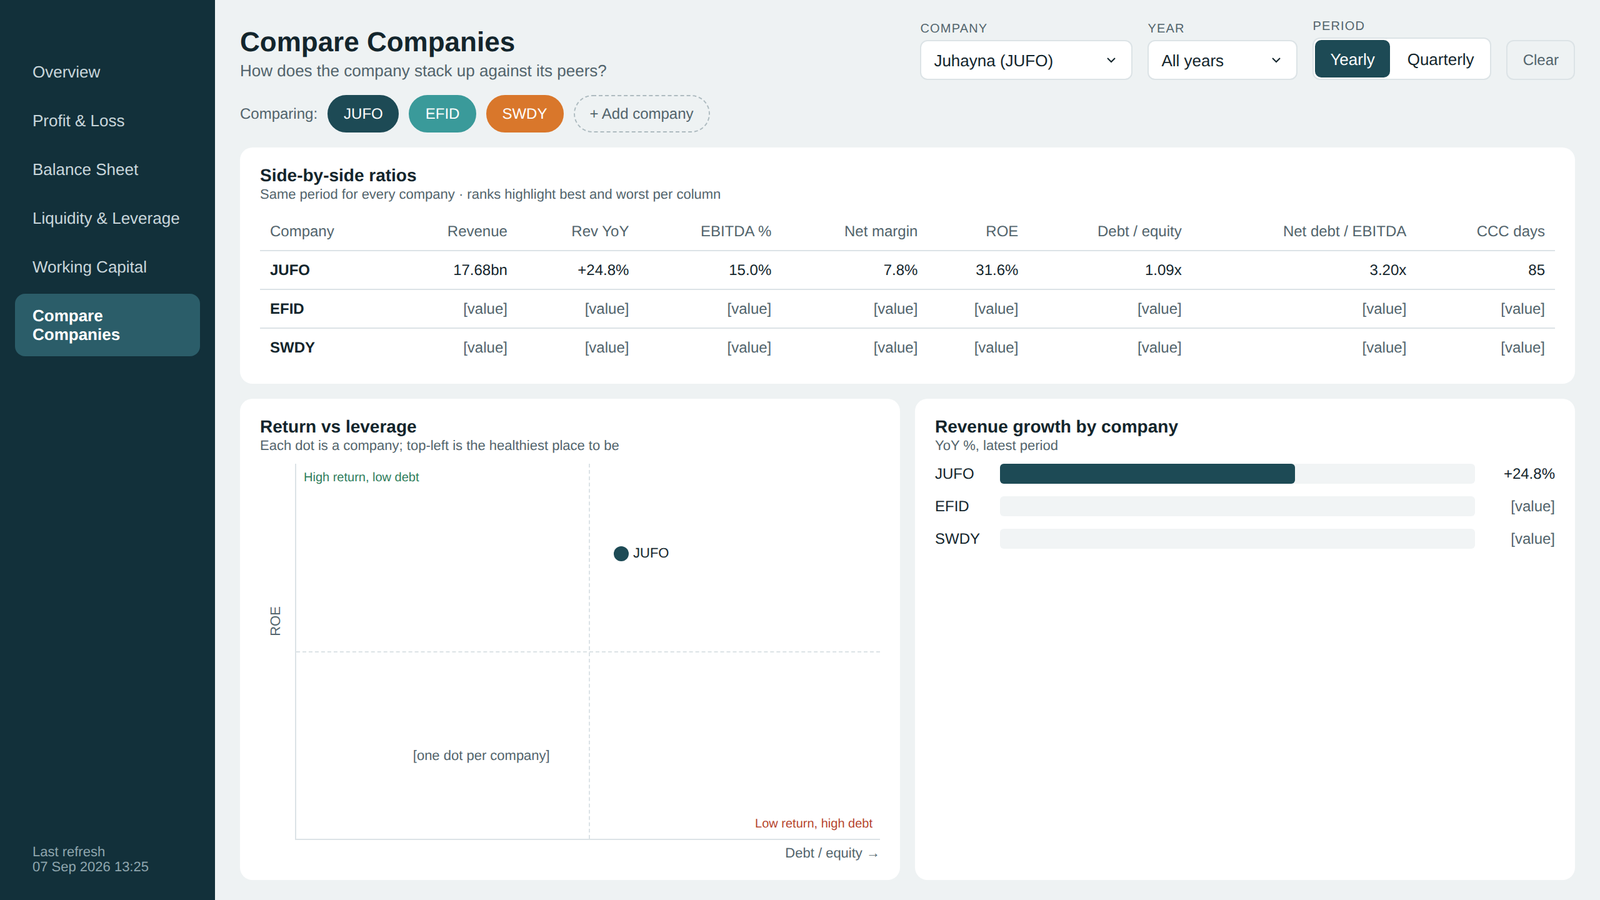

Layout of this report page (visuals, bound fields, positions):
{"tool":"powerbi","page":{"name":"Compare Companies","canvas":[1280,720],"ordinal":5},"visuals":[{"type":"pivotTable","title":"Side-by-side ratios","fields":{"Rows":["FactFinancials.Company"],"Values":["Measures List.Revenue (card)","Measures List.Revenue YOY% (card)","Measures List.EBITDA Margin % (card)","Measures List.Net Income Margin % (card)","Measures List.ROE (annualised) (card)","Measures List.Debt to Equity (card)","Measures List.Net Debt / EBITDA (card)","Measures List.CCC (card)"]},"box":[192,118,1068,170],"z":20},{"type":"scatterChart","title":"Return vs leverage","fields":{"Category":["FactFinancials.Company"],"X":["Measures List.Debt to Equity (card)"],"Y":["Measures List.ROE (annualised) (card)"]},"box":[192,300,528,404],"z":21},{"type":"barChart","title":"Revenue growth by company","fields":{"Category":["FactFinancials.Company"],"Y":["Measures List.Revenue YOY% (card)"]},"box":[732,300,528,404],"z":22},{"type":"pageNavigator","box":[12,38,150,270],"z":50},{"type":"card","title":"Last refresh","fields":{"Values":["Max(Last Refreash.Date)"]},"box":[12,656,150,52],"z":51},{"type":"textbox","box":[188,0,540,46],"z":52},{"type":"textbox","box":[188,44,540,30],"z":53},{"type":"slicer","title":"YEAR","fields":{"Values":["DimDate.Year"]},"box":[918,10,120,56],"z":55},{"type":"actionButton","box":[1205,34,55,30],"z":56},{"type":"slicer","fields":{"Values":["FactFinancials.Company"]},"box":[192,80,560,34],"z":57}]}

Visuals, with their boxes on the page's 1280x720 design canvas (x1, y1, x2, y2). These are canvas units, not pixel positions in the 1600x900 screenshot, which may show the page scaled, cropped or inside an application window:
"Side-by-side ratios" pivotTable: 192:118:1260:288
"Return vs leverage" scatterChart: 192:300:720:704
"Revenue growth by company" barChart: 732:300:1260:704
pageNavigator: 12:38:162:308
"Last refresh" card: 12:656:162:708
textbox: 188:0:728:46
textbox: 188:44:728:74
"YEAR" slicer: 918:10:1038:66
actionButton: 1205:34:1260:64
slicer - FactFinancials.Company: 192:80:752:114
